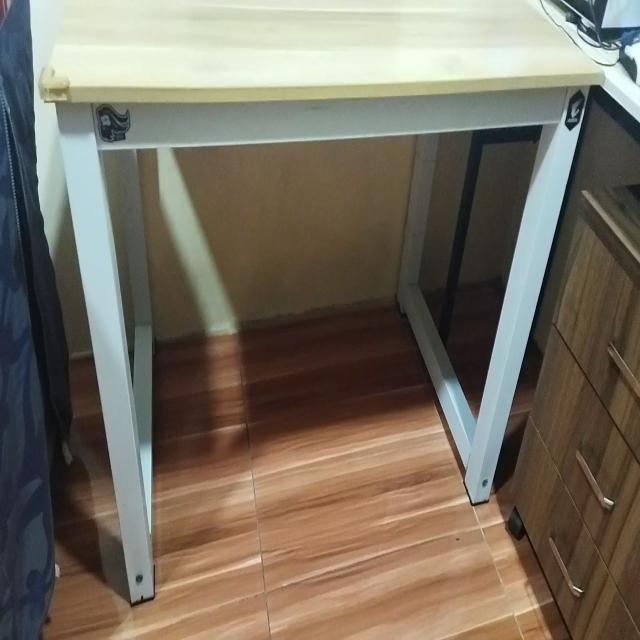table: (19, 0, 602, 552)
